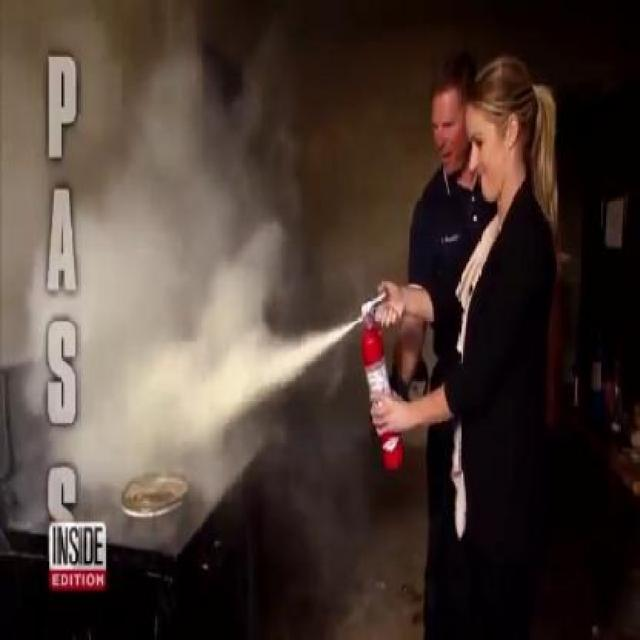smoke: (102, 92, 250, 292), (83, 325, 132, 418)
